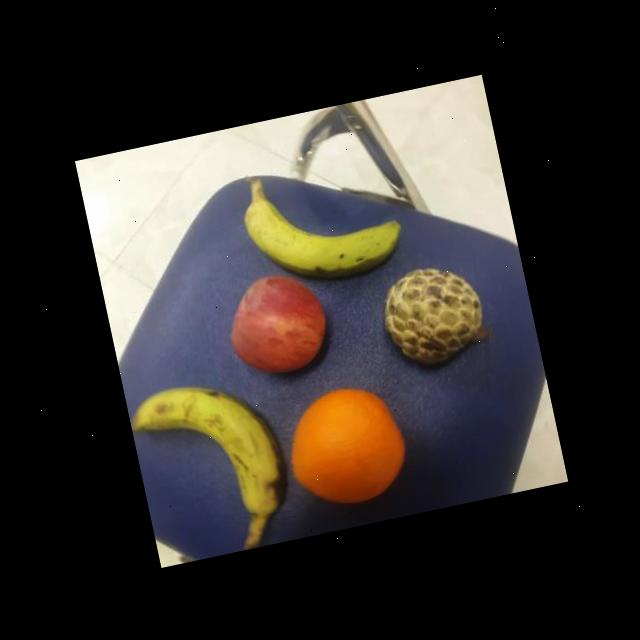Sakya fruit: (371, 254, 493, 373)
apple: (212, 263, 336, 385)
banana: (124, 364, 296, 541), (232, 157, 410, 296)
orange: (272, 372, 416, 516)
